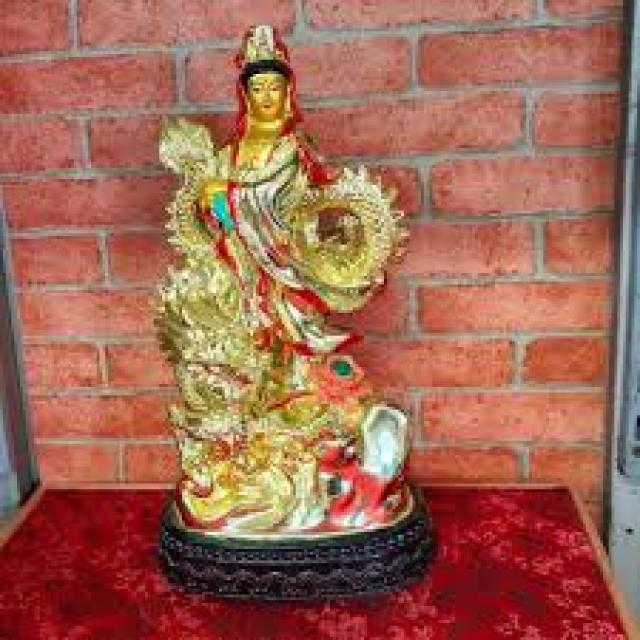Guan Yin: (215, 15, 308, 169)
